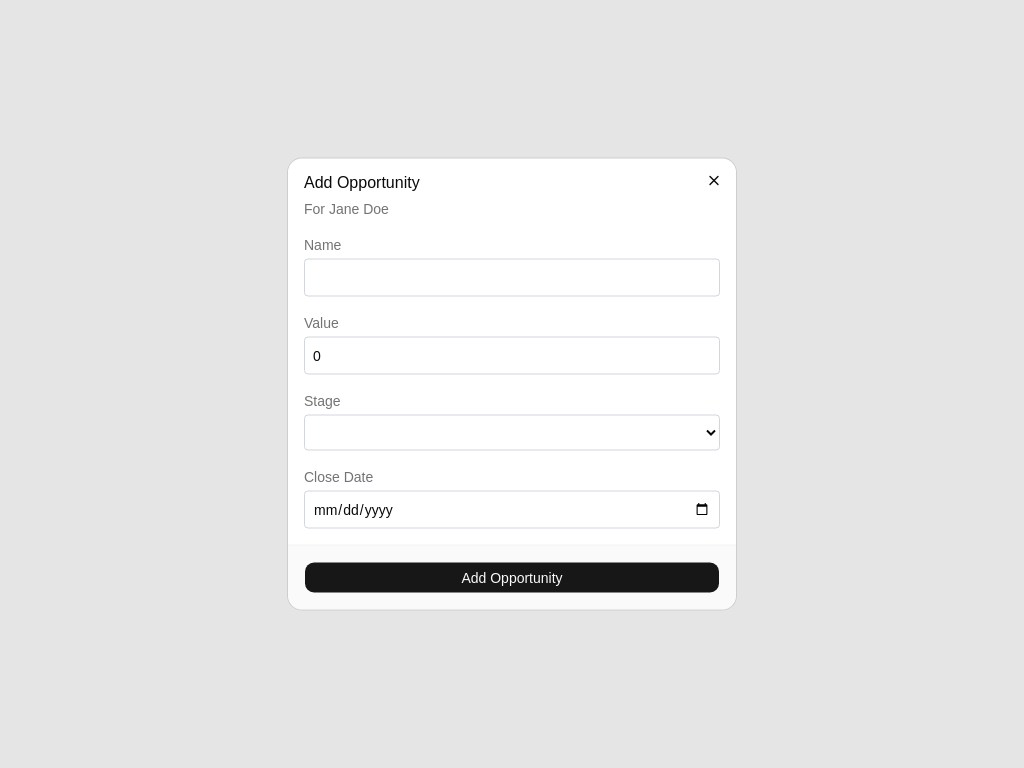
Test: OppAddDialog › shows error message from response data.error when the save fails
Click the button "Add Opportunity". click: [512, 578]
box: [304,562,720,594]
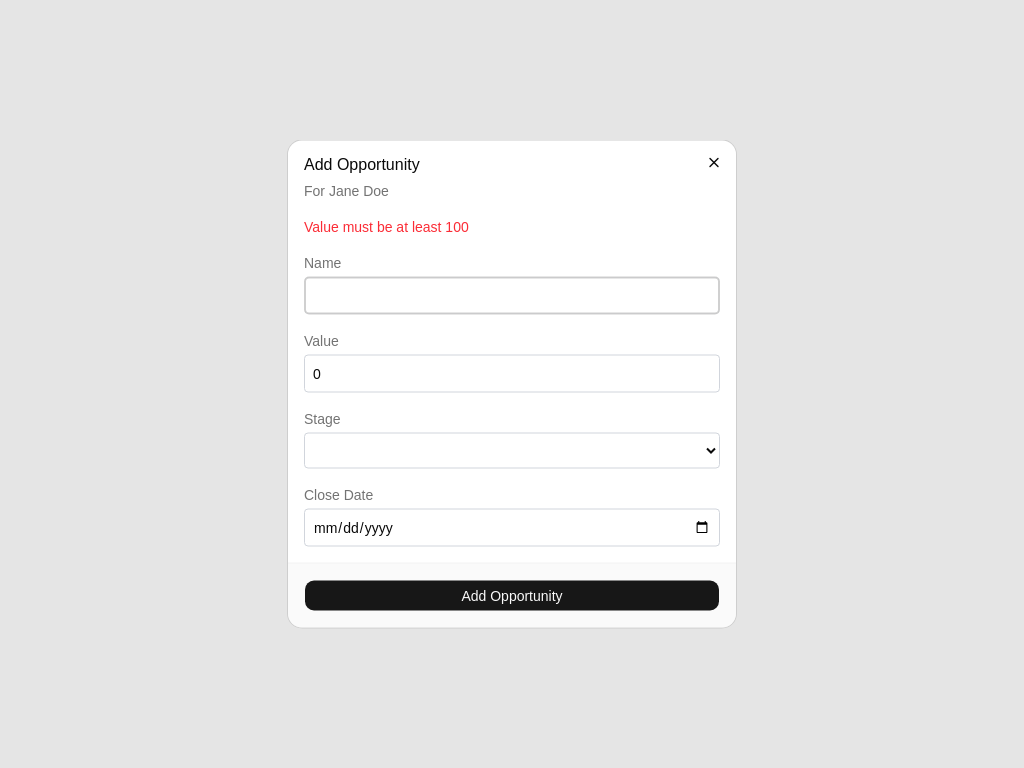
Now the text "Value must be at least 100" is shown, box [304,218,469,234]
